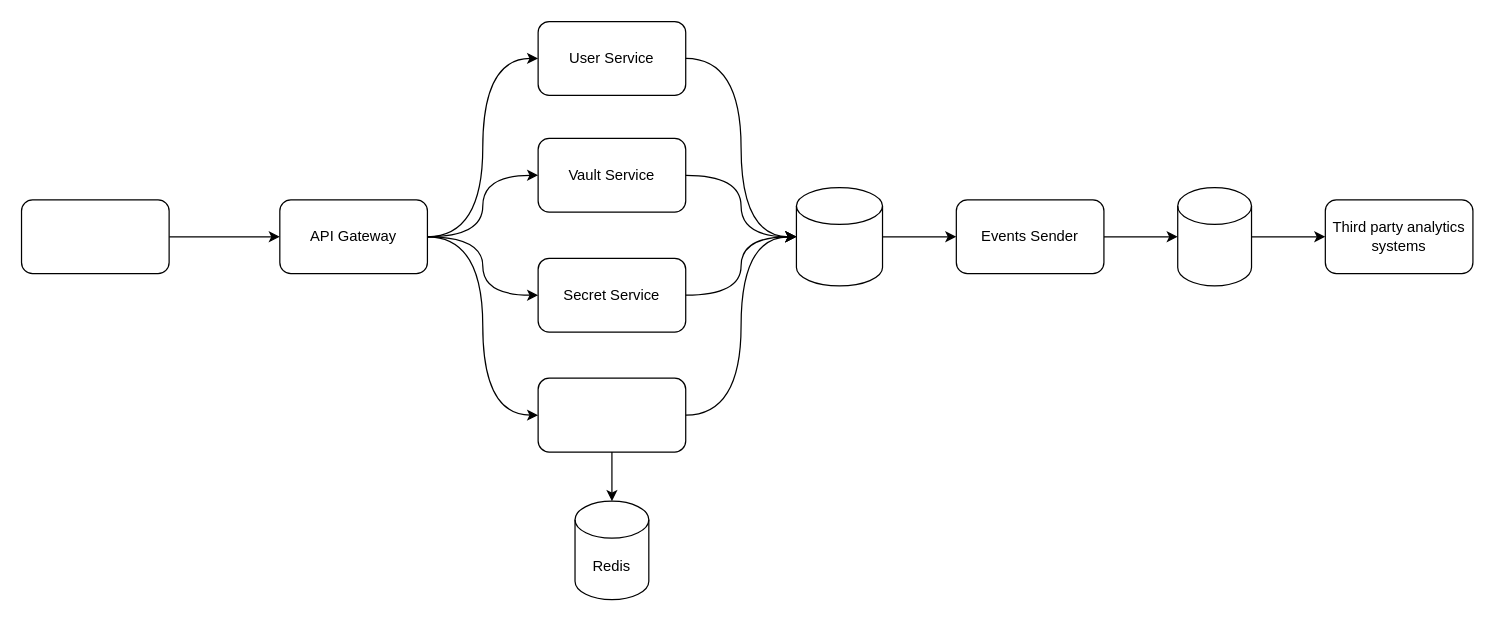
This 1494x621 diagram has some shape labels left out. The shapes that lost their labels are listed below. From the top down, each one's box as (x1, y1, x2, y2) in pixels, then its label:
(20, 199, 169, 274): client
(795, 186, 883, 286): PostgreSQL
(1176, 186, 1252, 286): Kafka
(537, 377, 686, 452): Auth Service
